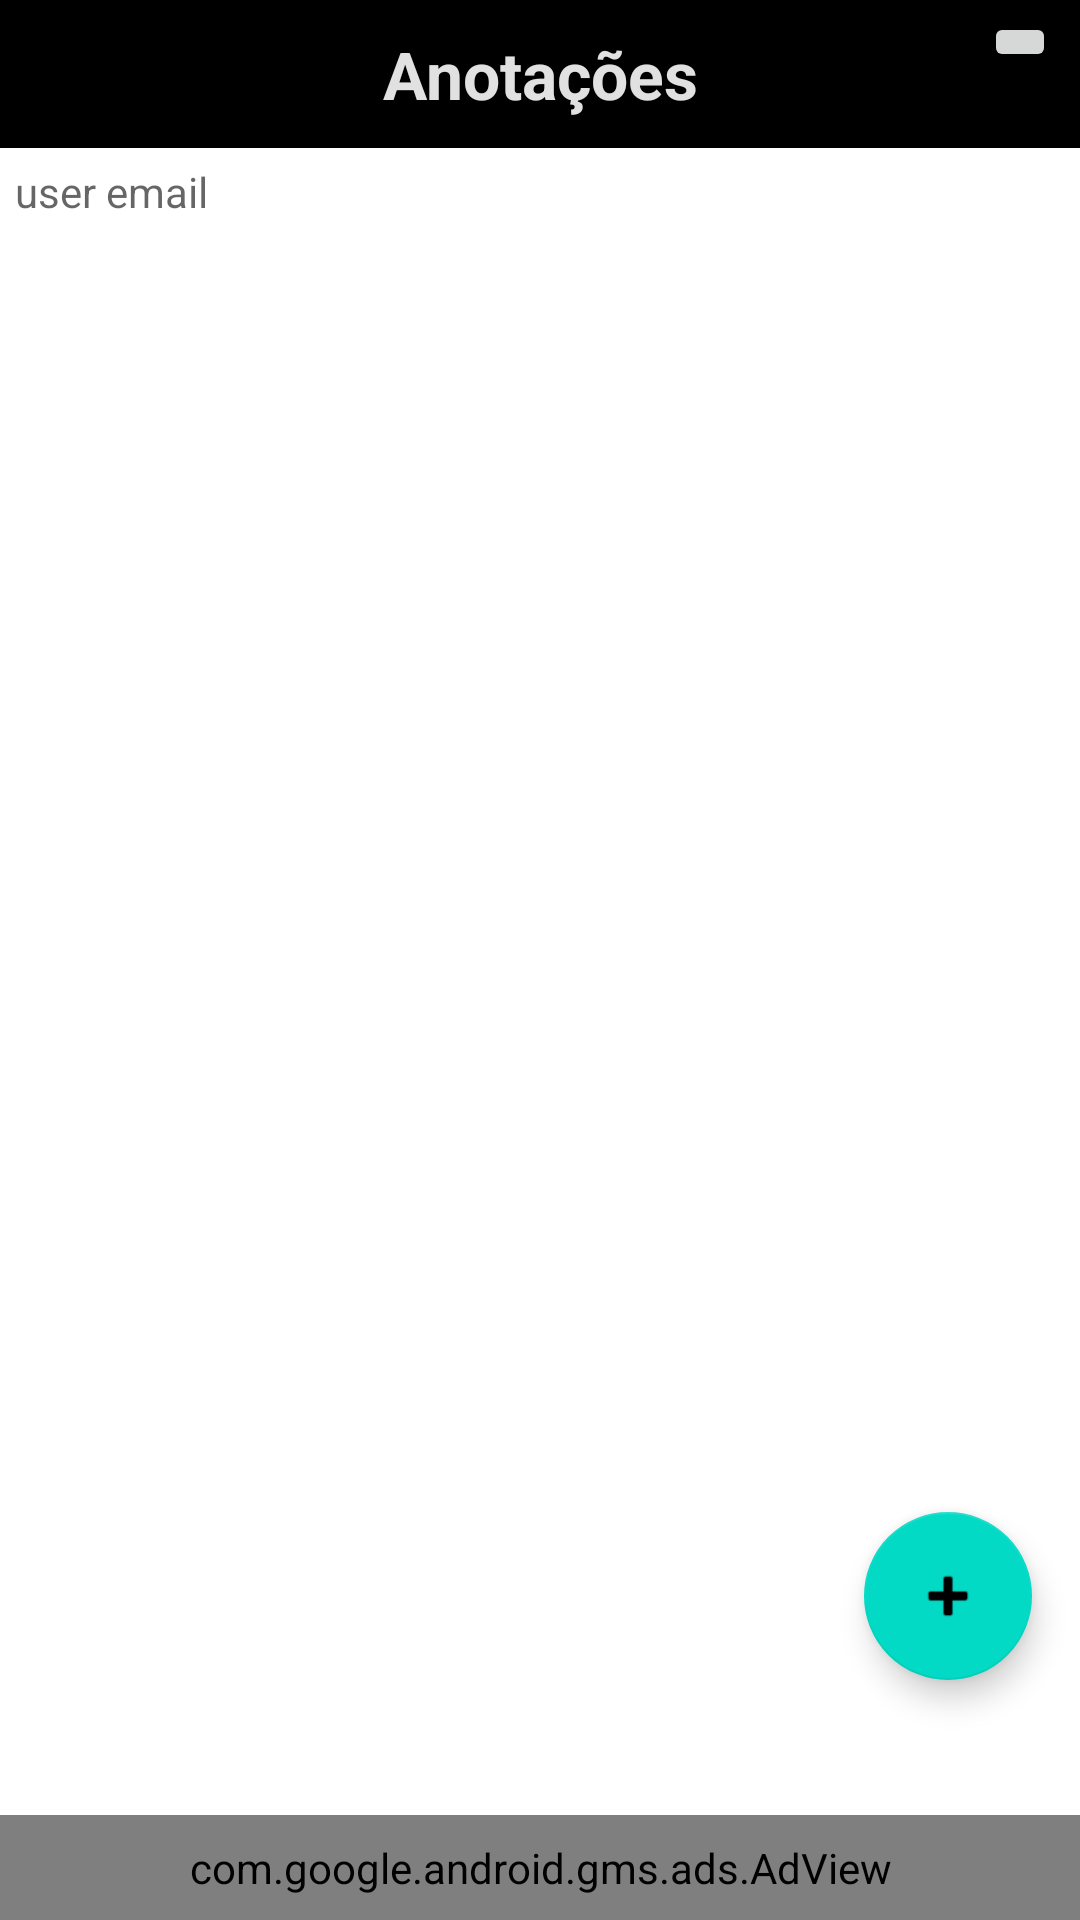

Where icons sit on this 1080×1920 app screen, as (x1, y1, x2, y2):
add: (864, 1512, 1032, 1680)
